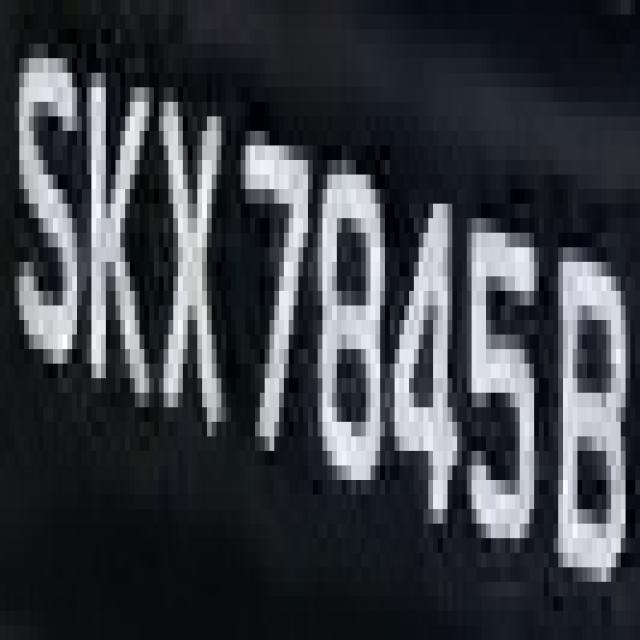4: (375, 160, 467, 567)
5: (448, 145, 544, 568)
7: (231, 73, 313, 480)
8: (308, 102, 399, 553)
B: (558, 189, 640, 596)
K: (77, 29, 144, 436)
S: (9, 15, 86, 378)
X: (149, 58, 231, 466)
